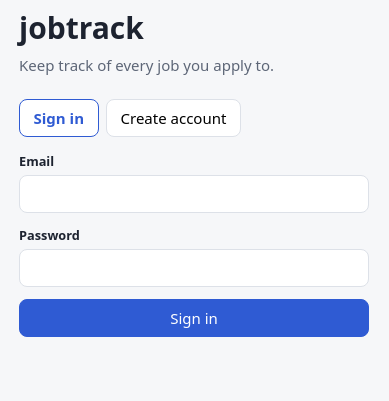
Test: LoginPage › shows the server message when the password is wrong
The width and height of the screenshot is (389, 401).
Type "ada@example.com" into the field labelled "Email" at [194, 194], box [19,175,369,213]
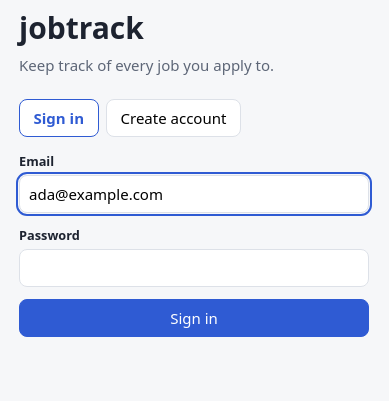
Type "wrong password" into the password field labelled "Password" at [194, 268], box [19,248,369,286]
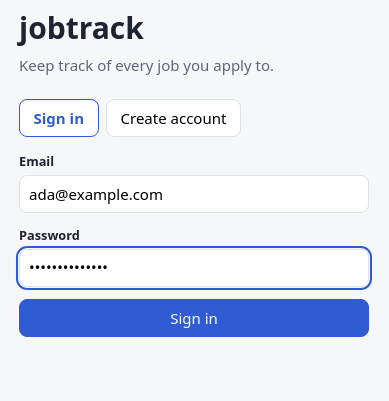
Click the button "Sign in" at [194, 318], box [19,299,369,337]
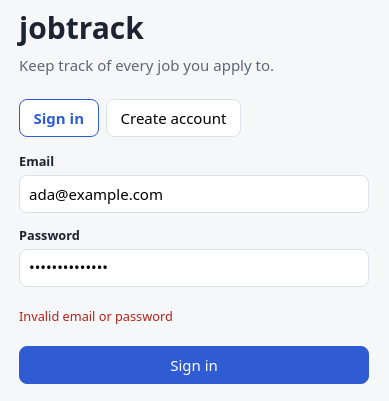
Now the message reads "Invalid email or password", box [19,307,173,325]
